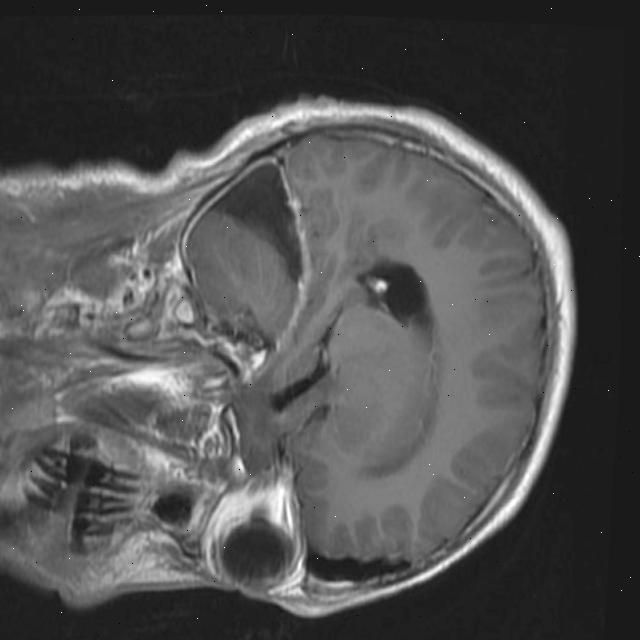Glioma: (166, 147, 320, 355)
